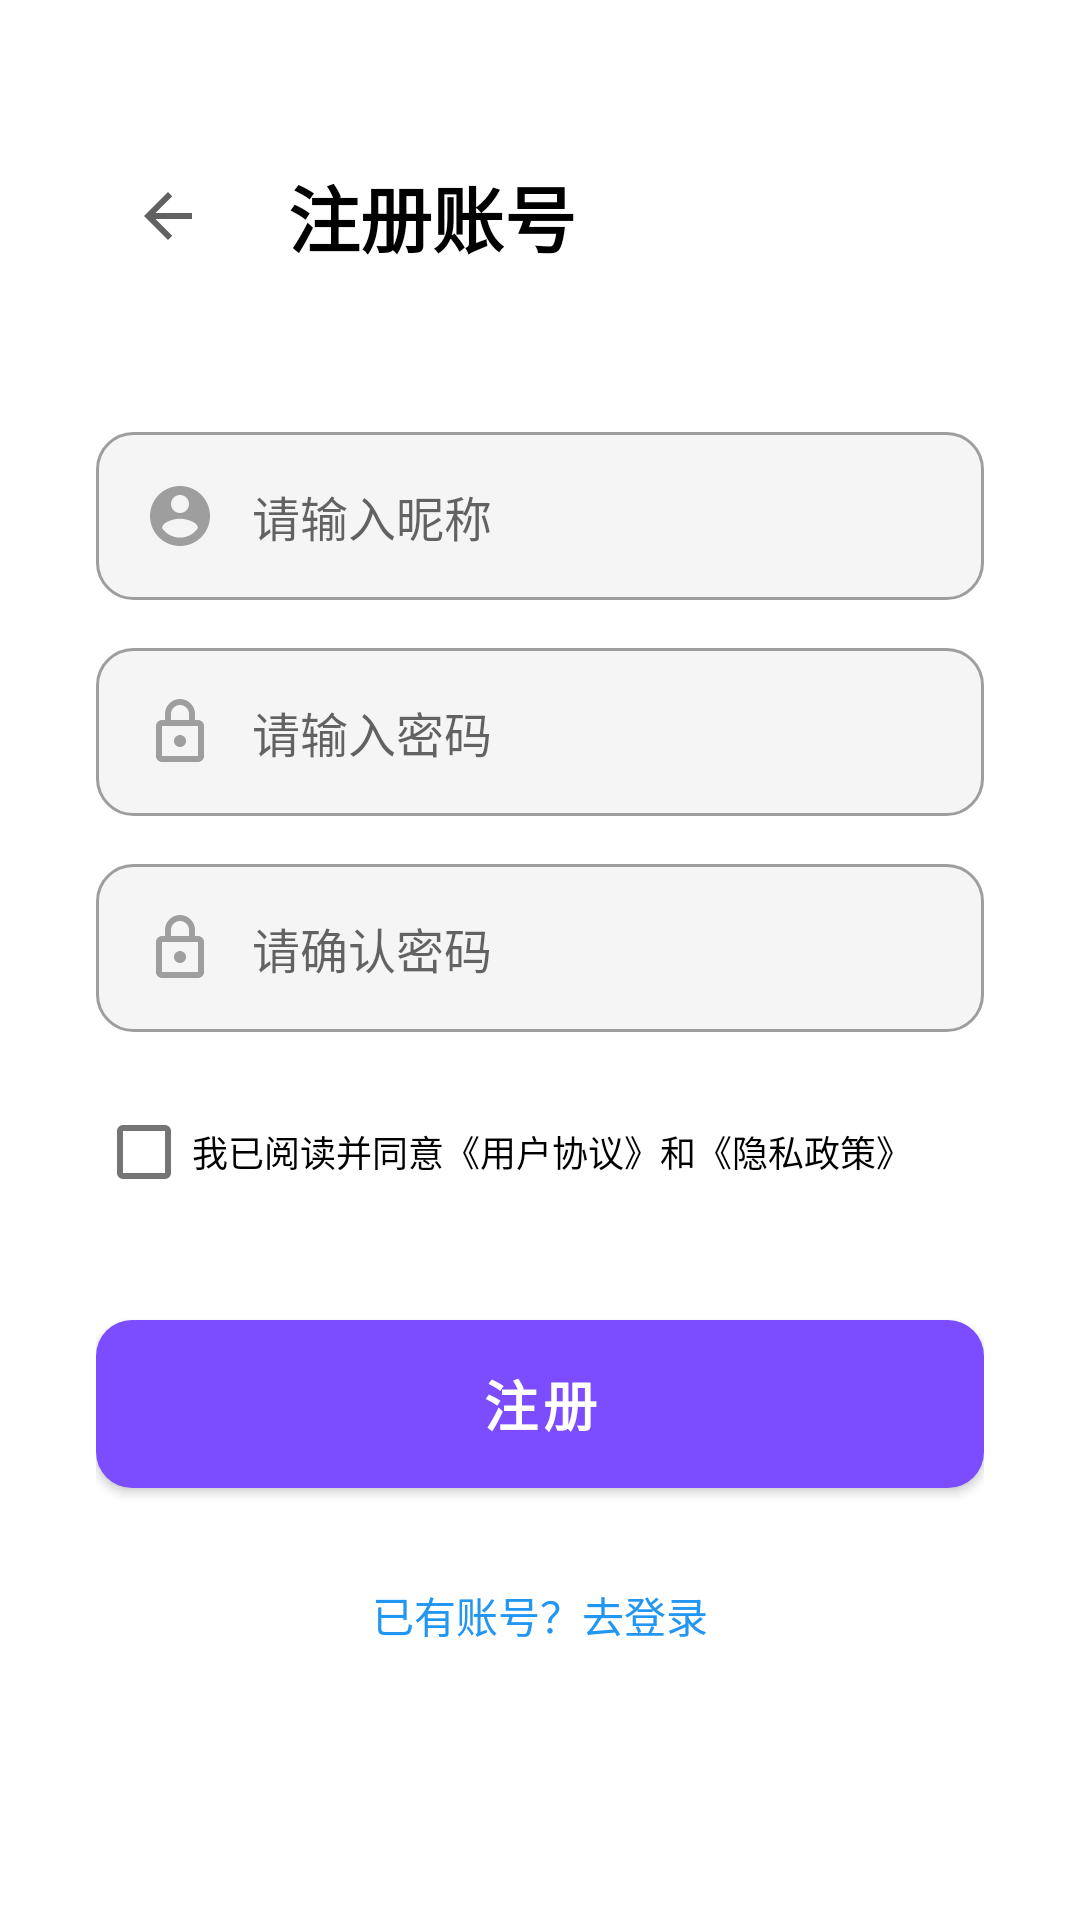

Where to tap for icons on this 1080x1920 app screen, as (x=x, y=y):
返回: (x=168, y=216)
